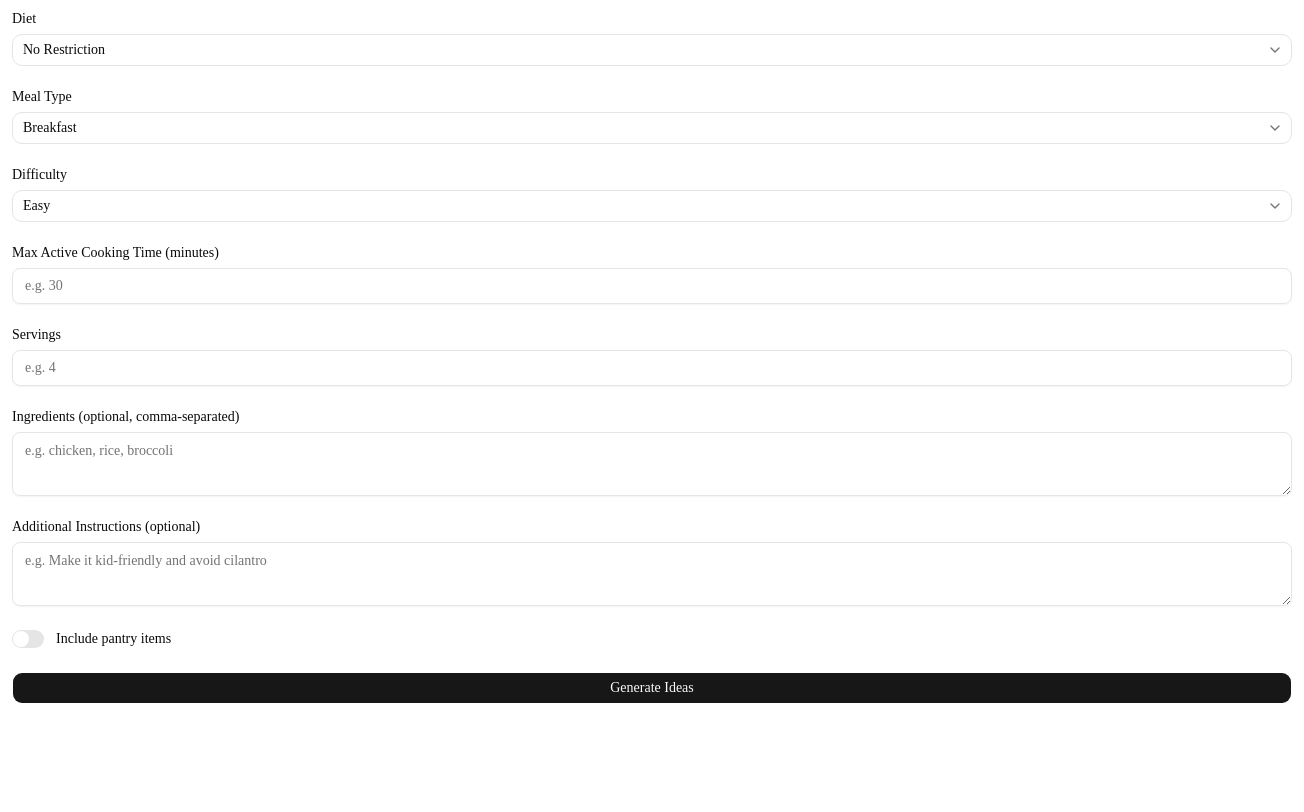
Scenario: ConstraintForm › rejects zero servings on submit
Type "30" into the number field labelled "Max Active Cooking Time (minutes)". click: x=652, y=286
box: [12,268,1292,304]
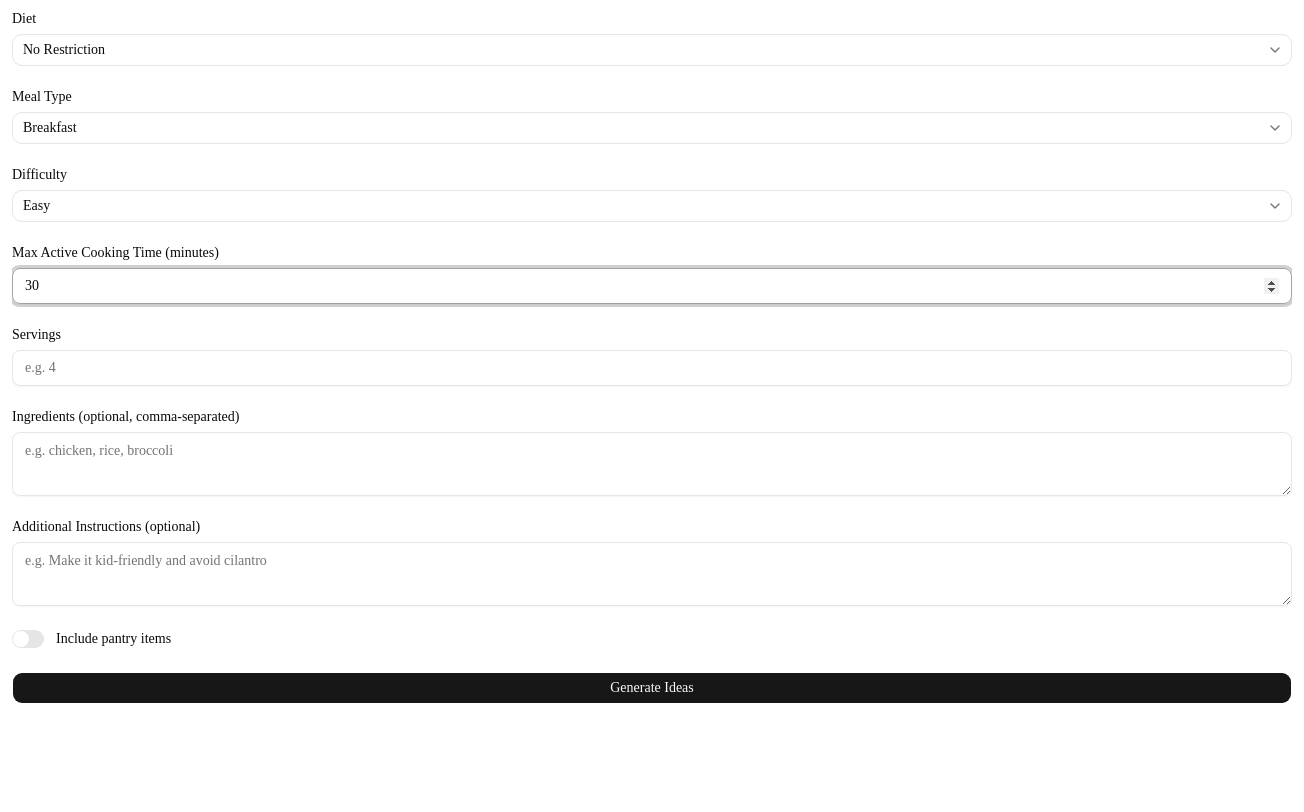
Type "0" into the number field labelled "Servings". click: x=652, y=368
box: [12,350,1292,386]
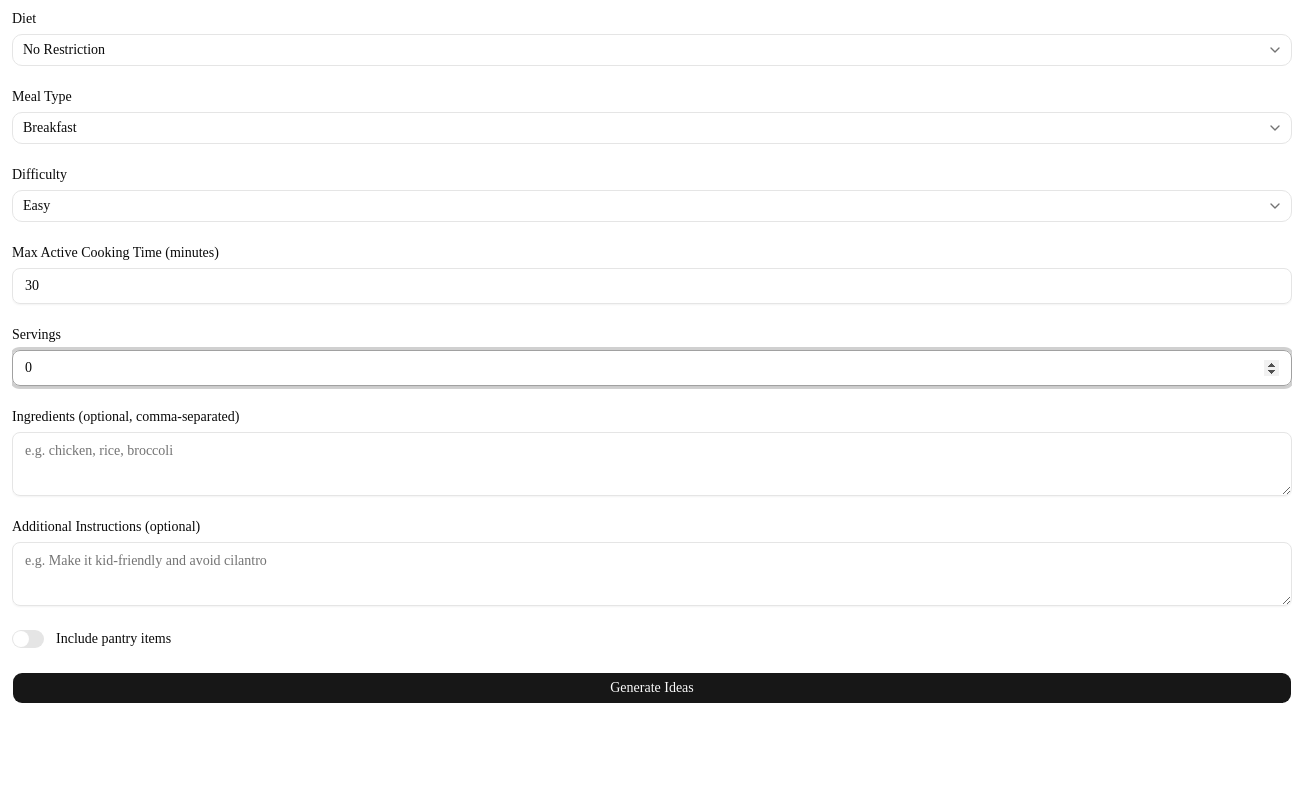
Click the button "Generate Ideas". click: x=652, y=688
box: [12,672,1292,704]
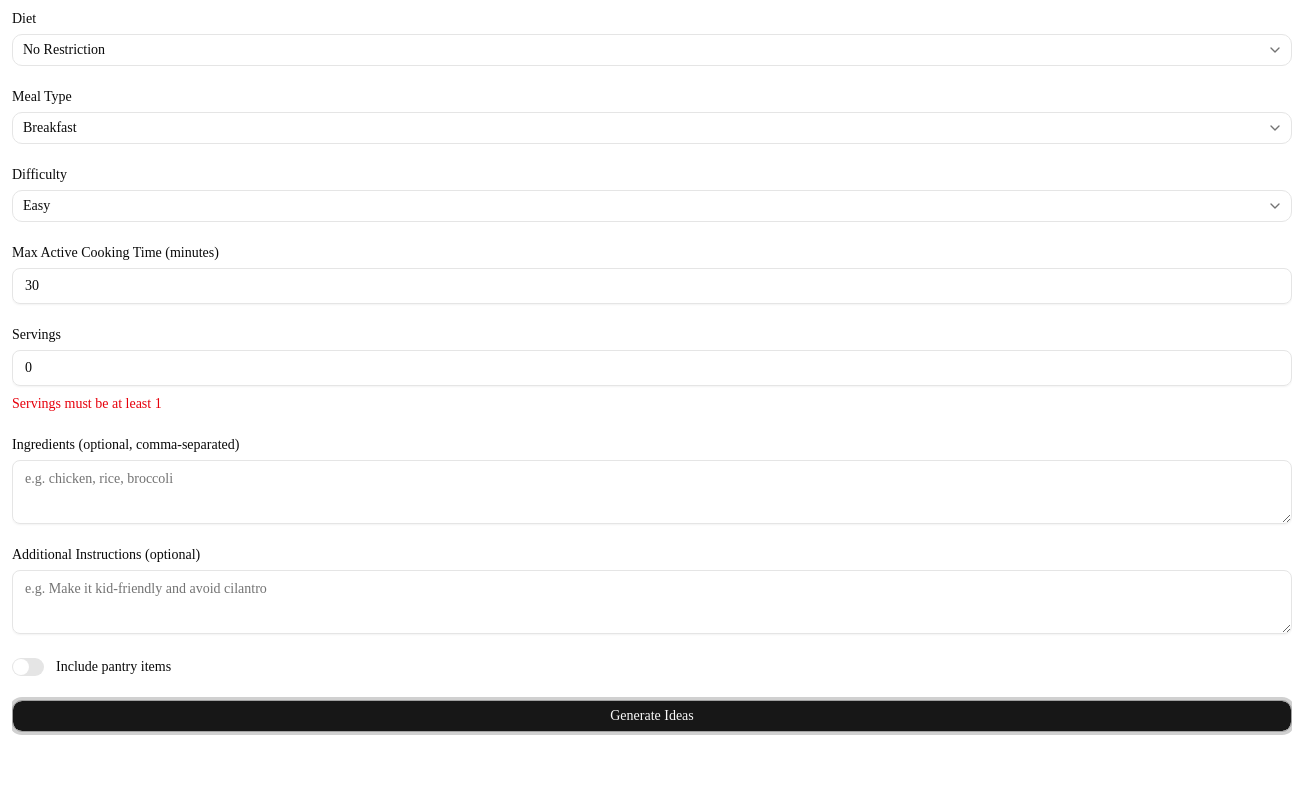
Check: the text "Servings must be at least 1" is shown, box [12,396,162,411]
